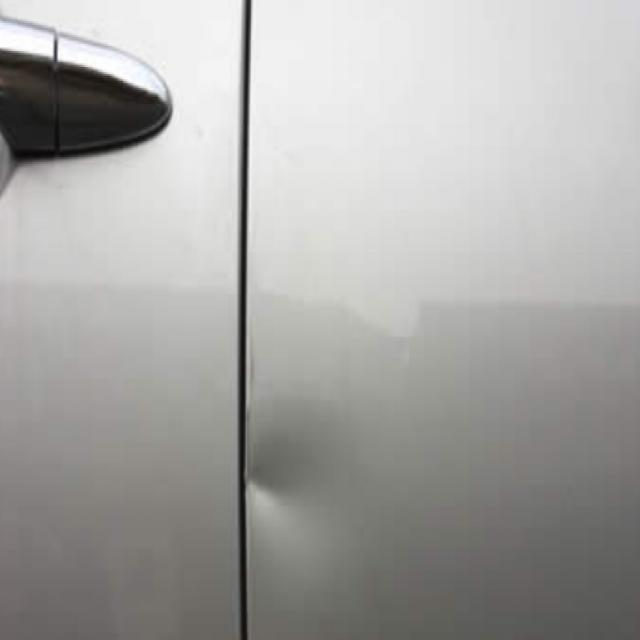dents: (245, 404, 308, 542)
